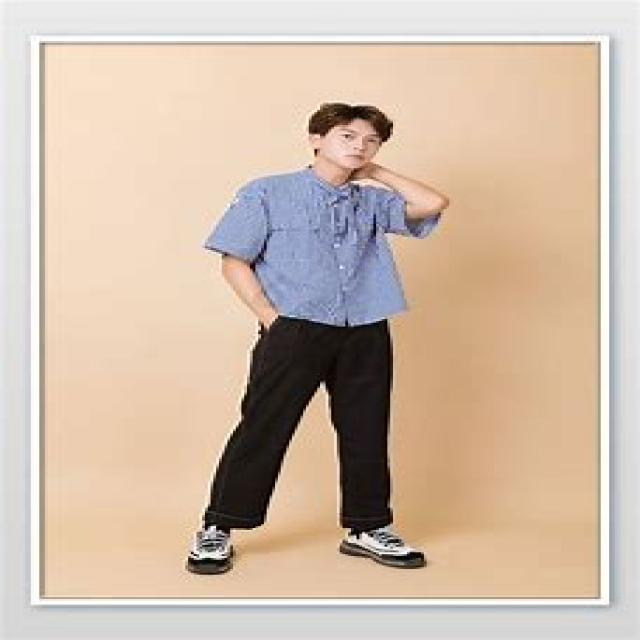stand: (185, 92, 438, 547)
